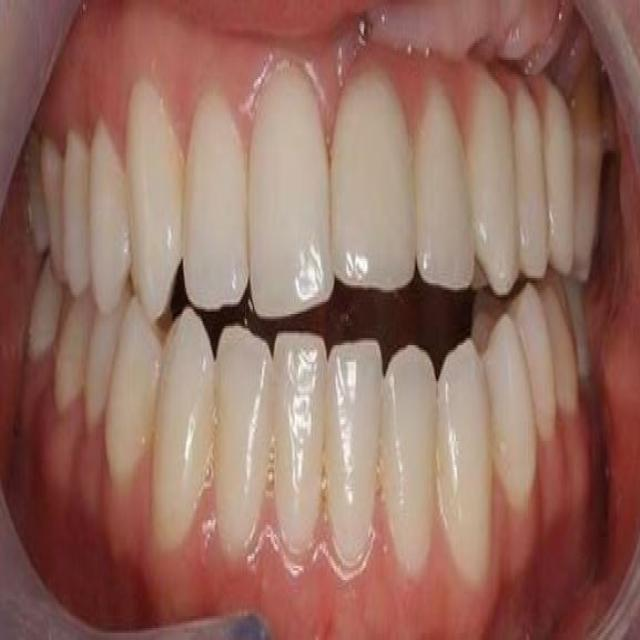1st Molar: (53, 293, 94, 412), (544, 280, 578, 417), (574, 135, 602, 276), (43, 140, 62, 266)
1st Premolar: (485, 313, 537, 517), (104, 291, 161, 477), (86, 118, 130, 318), (513, 77, 547, 278)
2nd Molar: (25, 249, 66, 365), (28, 163, 49, 249)
2nd Premolar: (540, 77, 576, 273), (513, 285, 556, 447), (62, 128, 89, 293), (85, 314, 117, 428)
Canine: (152, 305, 214, 560), (436, 337, 494, 592), (126, 79, 183, 321), (467, 72, 520, 297)
Central Incisor: (248, 60, 334, 321), (332, 67, 416, 292), (327, 340, 382, 575), (272, 333, 326, 563)
Lateral Incisor: (183, 91, 249, 312), (215, 324, 272, 566), (382, 342, 437, 582), (414, 87, 471, 288)
